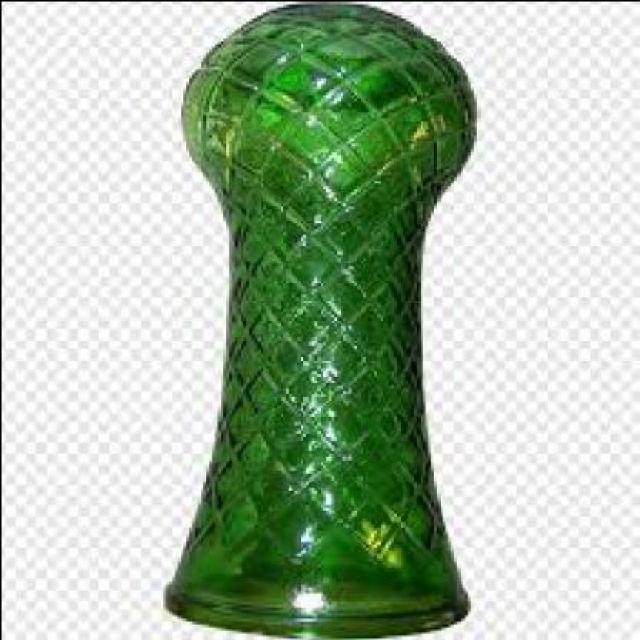GLASS: (162, 3, 478, 639)
